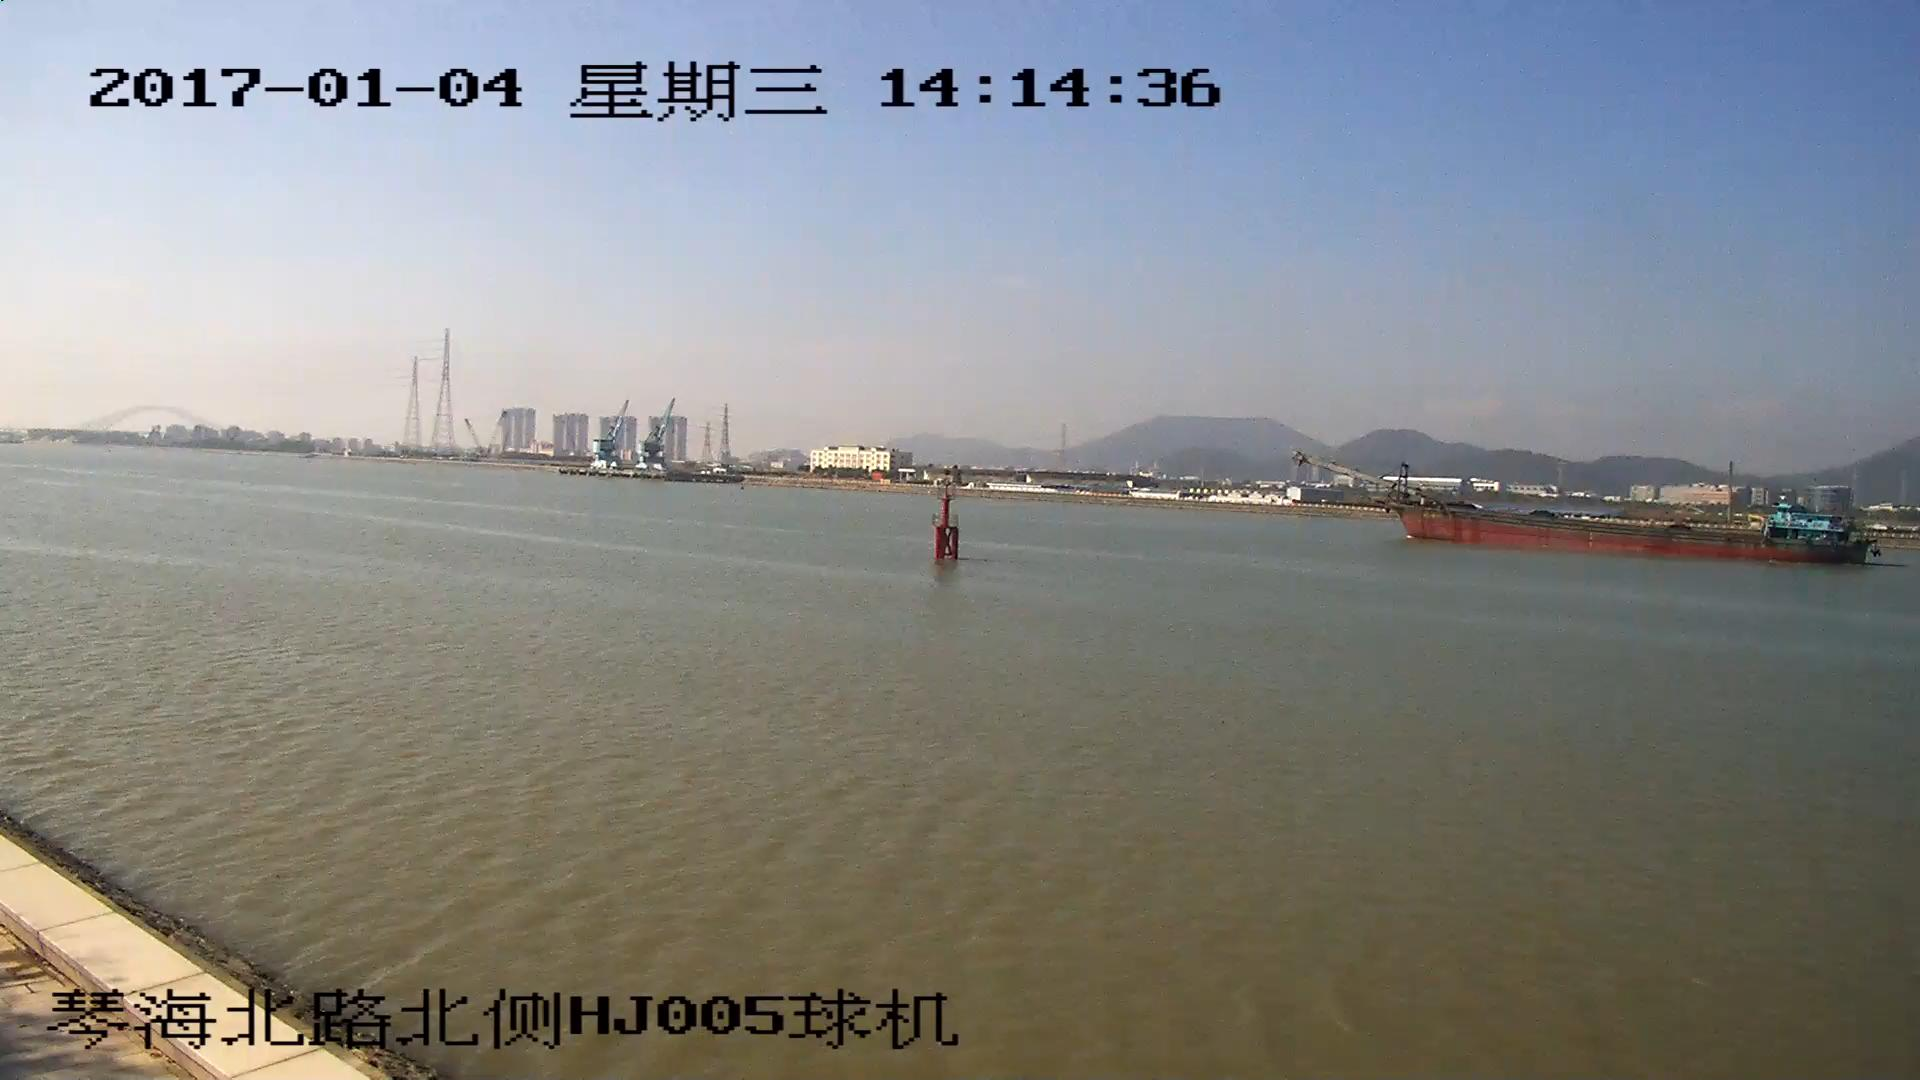bulk cargo carrier: (1299, 455, 1869, 563)
